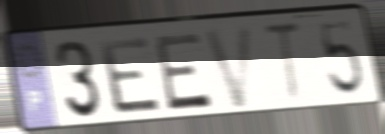3: (53, 38, 104, 121)
5: (316, 18, 368, 99)
E: (96, 34, 165, 118), (151, 30, 215, 114)
T: (260, 20, 305, 106)
V: (201, 22, 256, 112)
